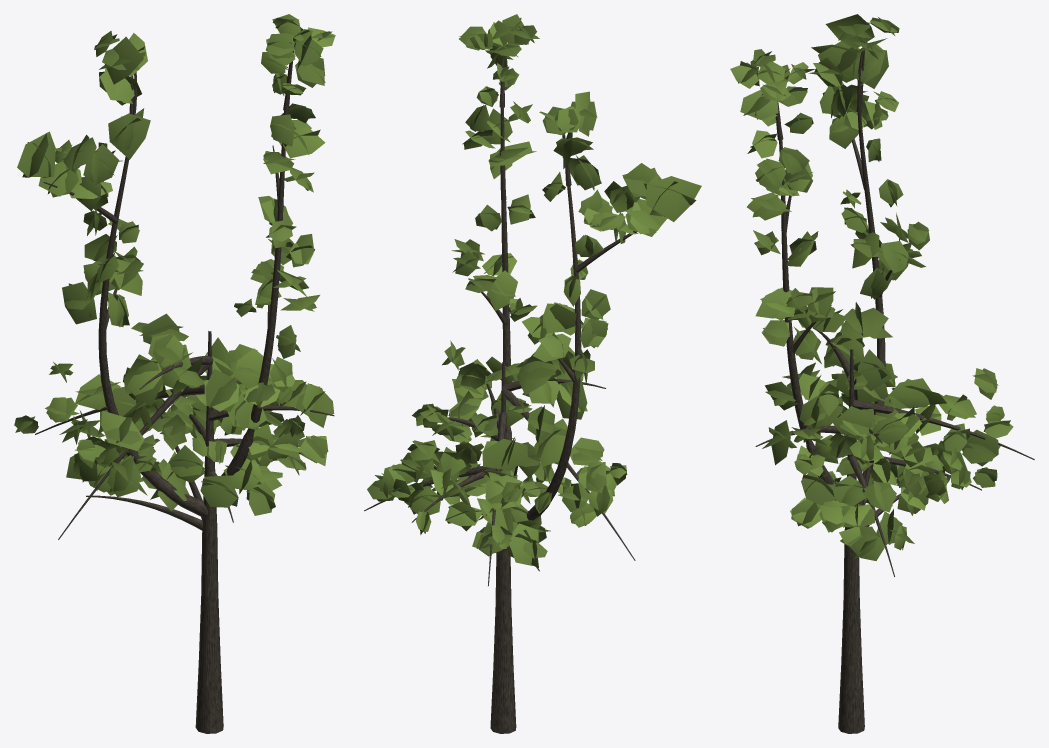
Rendered from open_04_native_base_T016717_lod1.glb.
3 views of the same model, side by side, from view 1: azimuth 30°, elevation 25°; view 2: azimuth 150°, elevation 25°; view 3: azimuth 270°, elevation 25° (orthographic). The views are drawn at different scales.
Visible parts, largest first — view 1: individual_curved_leaf_sprigs, retained_branches_0, retained_branches_1; view 2: individual_curved_leaf_sprigs, retained_branches_0, retained_branches_1; view 3: individual_curved_leaf_sprigs, retained_branches_0, retained_branches_1.
Part boxes in pixels (x1,y1,x2,y2): individual_curved_leaf_sprigs: [14, 14, 335, 515]; retained_branches_0: [35, 43, 334, 539]; retained_branches_1: [195, 530, 223, 733]; individual_curved_leaf_sprigs: [367, 14, 701, 567]; retained_branches_0: [364, 55, 664, 586]; retained_branches_1: [490, 549, 516, 733]; individual_curved_leaf_sprigs: [730, 14, 1013, 560]; retained_branches_0: [755, 42, 1034, 576]; retained_branches_1: [838, 544, 864, 733].
Size of the model in its own units: 7.53 by 15.74 by 6.32.
Materials: 2 (1 with a texture image).
